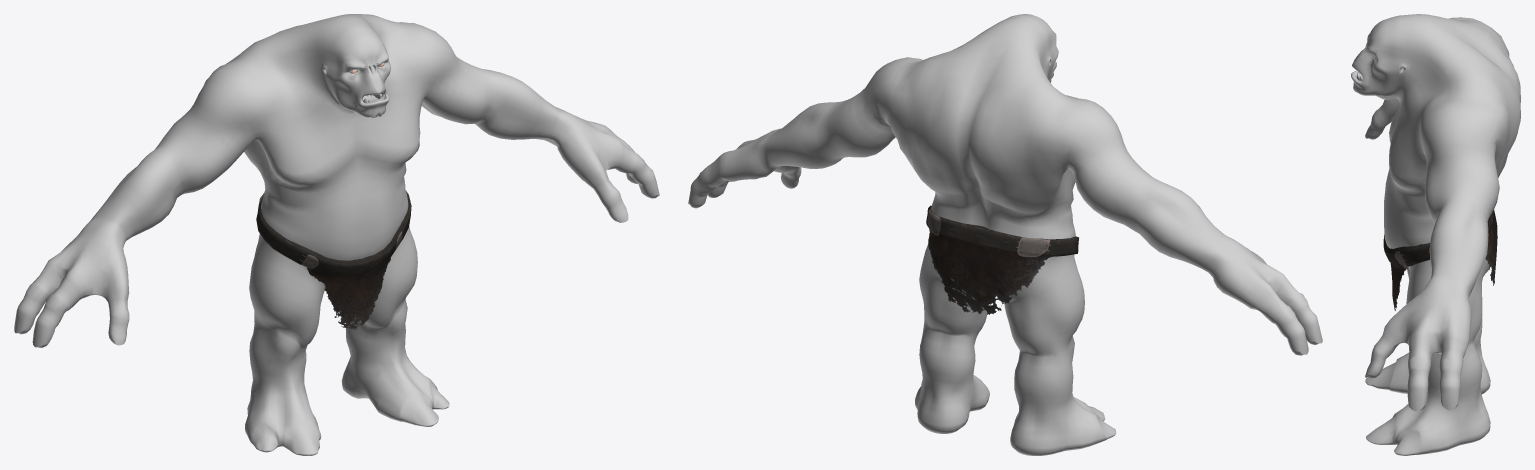
3 views of the same model, side by side, from view 1: azimuth 30°, elevation 25°; view 2: azimuth 150°, elevation 25°; view 3: azimuth 270°, elevation 25° (orthographic). The views are drawn at different scales.
Visible parts, largest first — view 1: polySurface7, Pants; view 2: polySurface7, Pants; view 3: polySurface7, Pants.
Boxes of the visible parts, x1,y1,x2,y2 form: polySurface7: (14,14,659,455); Pants: (256,191,411,329); polySurface7: (688,14,1322,455); Pants: (926,205,1078,314); polySurface7: (1351,14,1520,455); Pants: (1383,210,1497,310).
Bounding box in the file's own units: 878 × 539 × 210.
